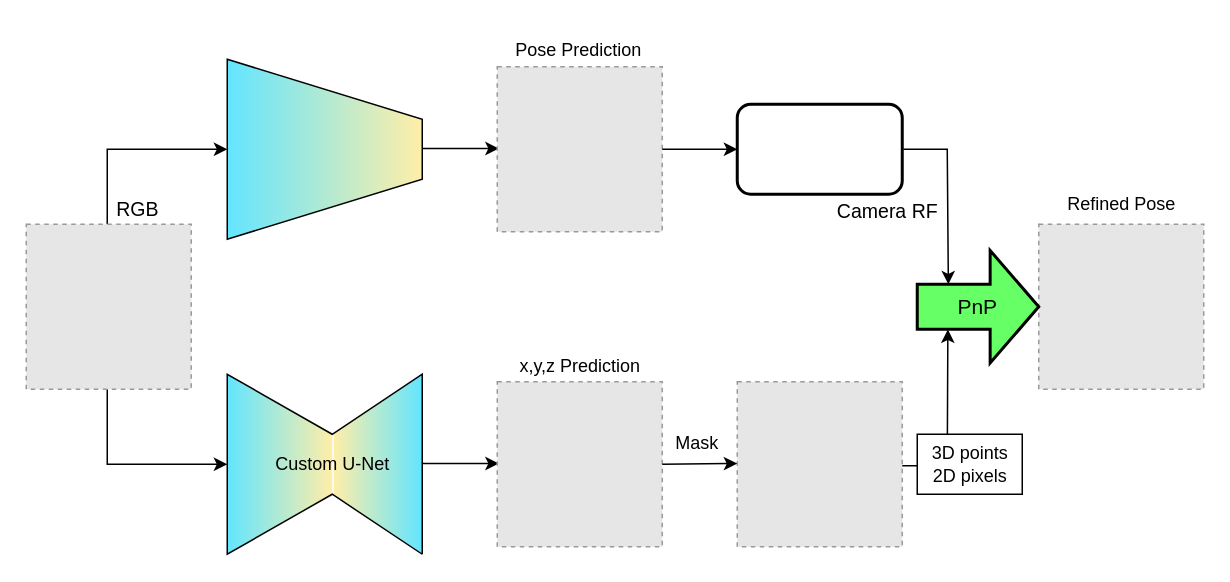
This 1230x582 diagram has some shape labels left out. Grey dashed boxes stand in for pictures. The centre of each missing label's shape, as x and y in pixels:
"Custom ResNet" goes at [324,148].
"rvec tvec" goes at [819,148].
